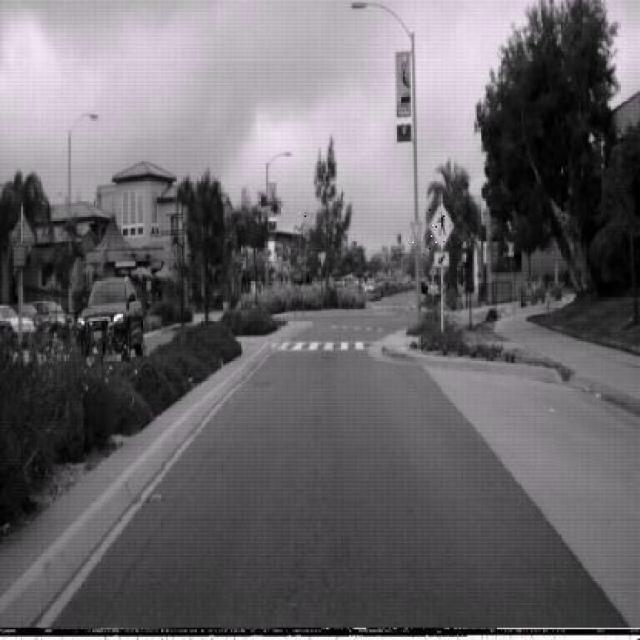pedestrianCrossing: (428, 200, 454, 253)
yield: (409, 222, 424, 246), (302, 209, 314, 232)
